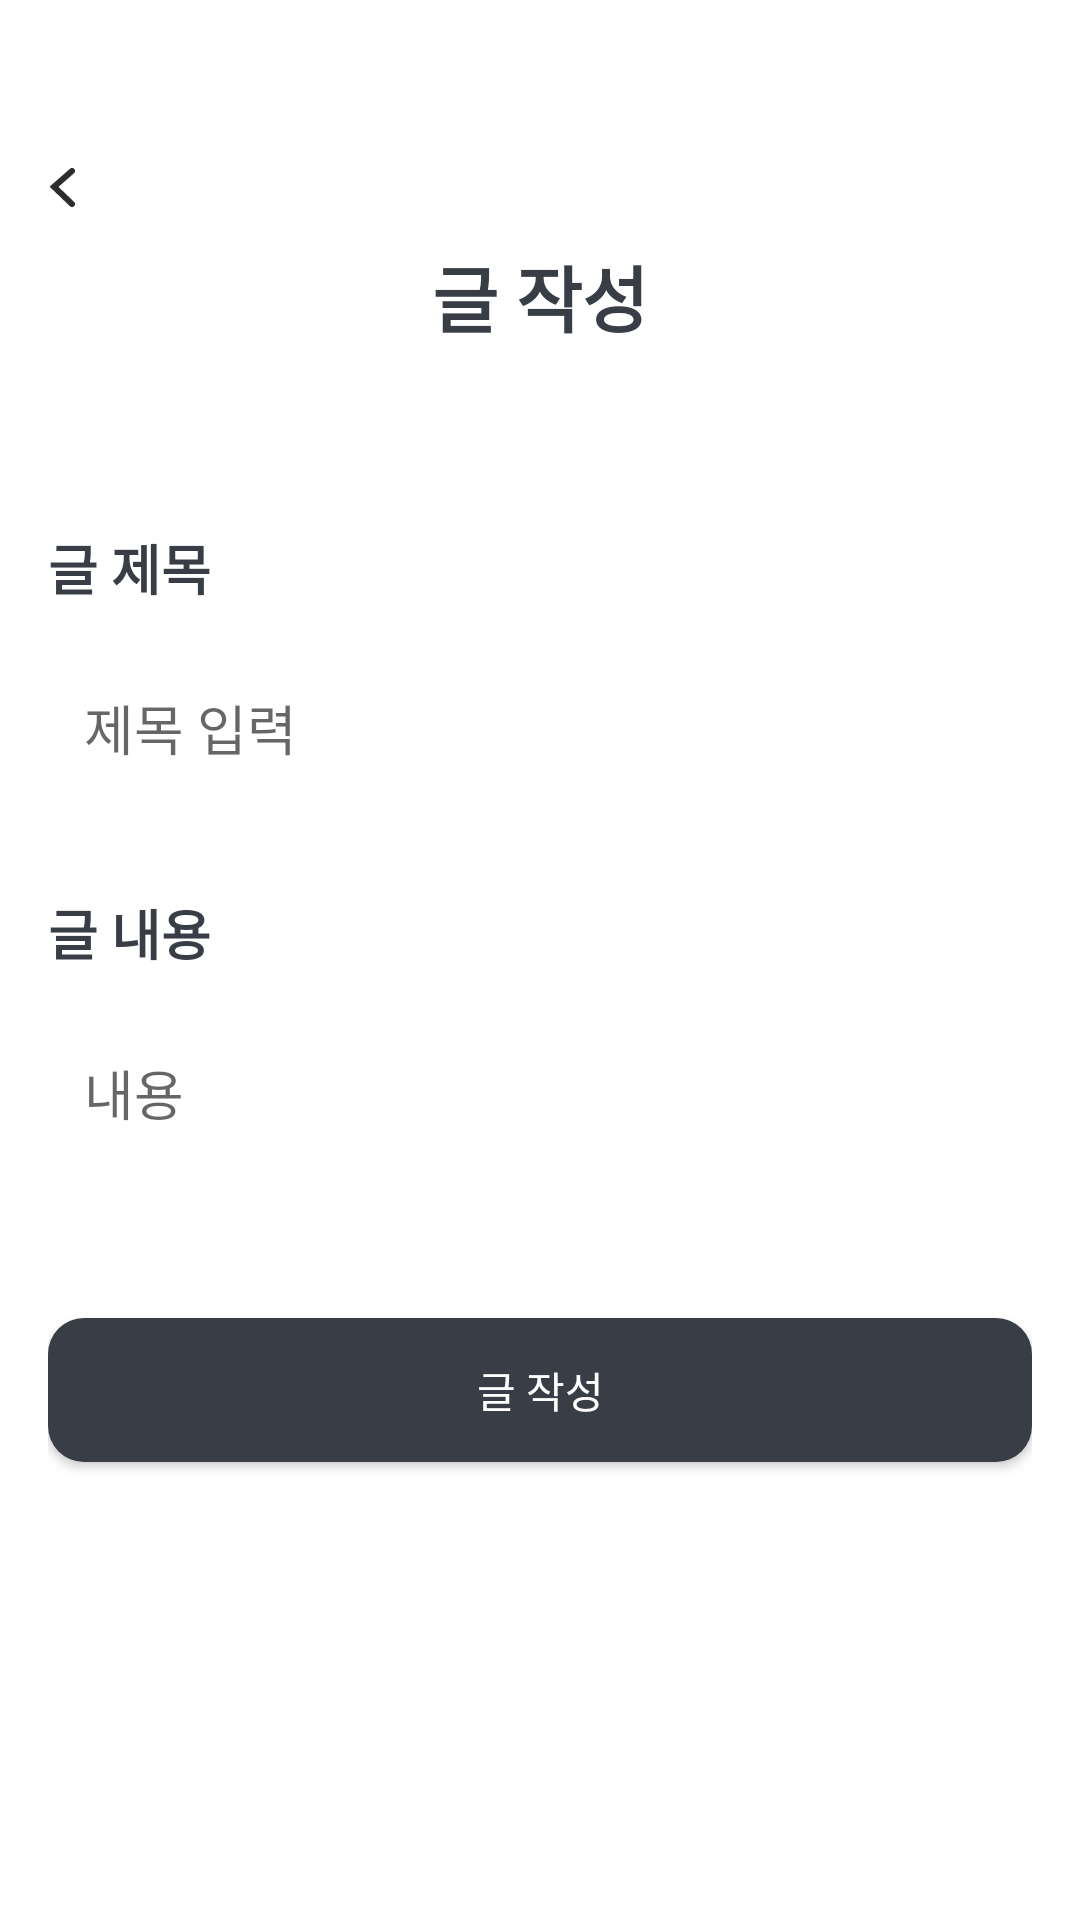

Icon click points for this 1080 x 1920 phone screenshot, format [x,y]:
arrow: [62,187]
